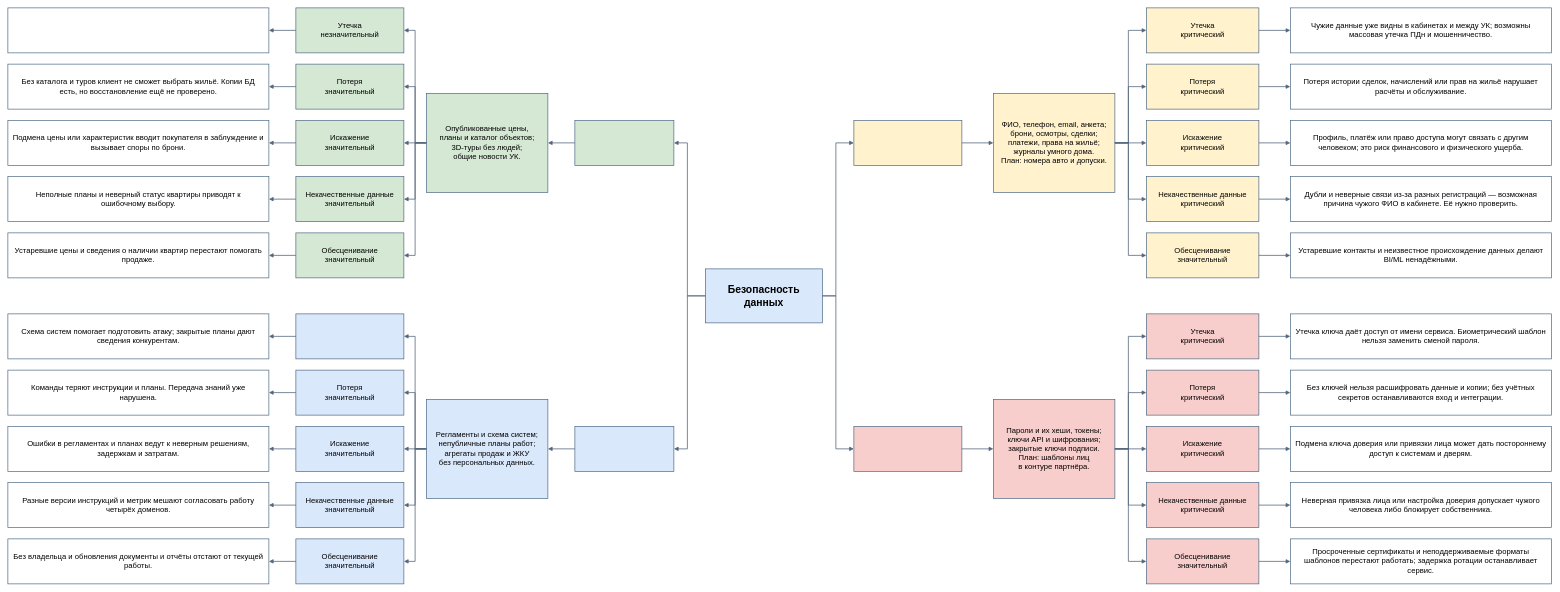
Image size: 1560x592. Some labels were removed from this diagram. The box of each missing label's shape, as (x1, y1, x2, y2) in pixels:
Внутренние данные: (574, 426, 674, 472)
Данные предназначены для публикации, закрытая информация не раскрывается.: (7, 7, 269, 53)
Конфиденциальные данные: (853, 120, 962, 166)
Публичные данные: (574, 120, 674, 166)
Секретные данные: (853, 426, 962, 472)
Утечка значительный: (295, 313, 404, 359)
